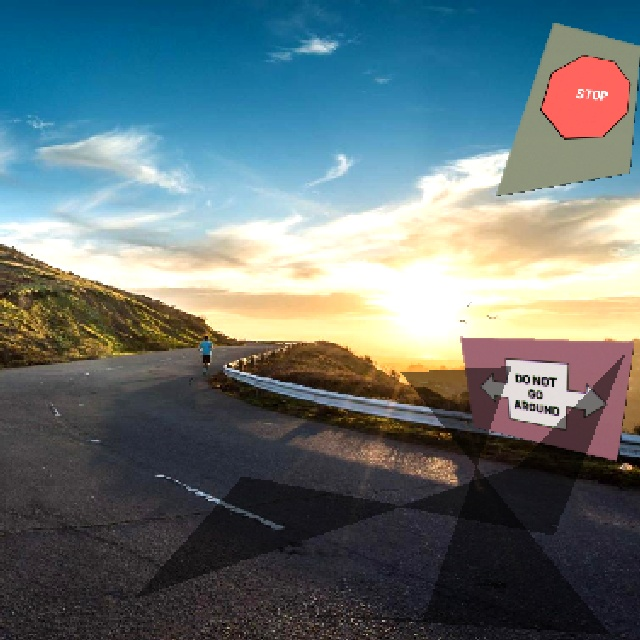DO_NOT_GO_AROUND: (470, 347, 610, 437)
STOP: (530, 46, 633, 155)
